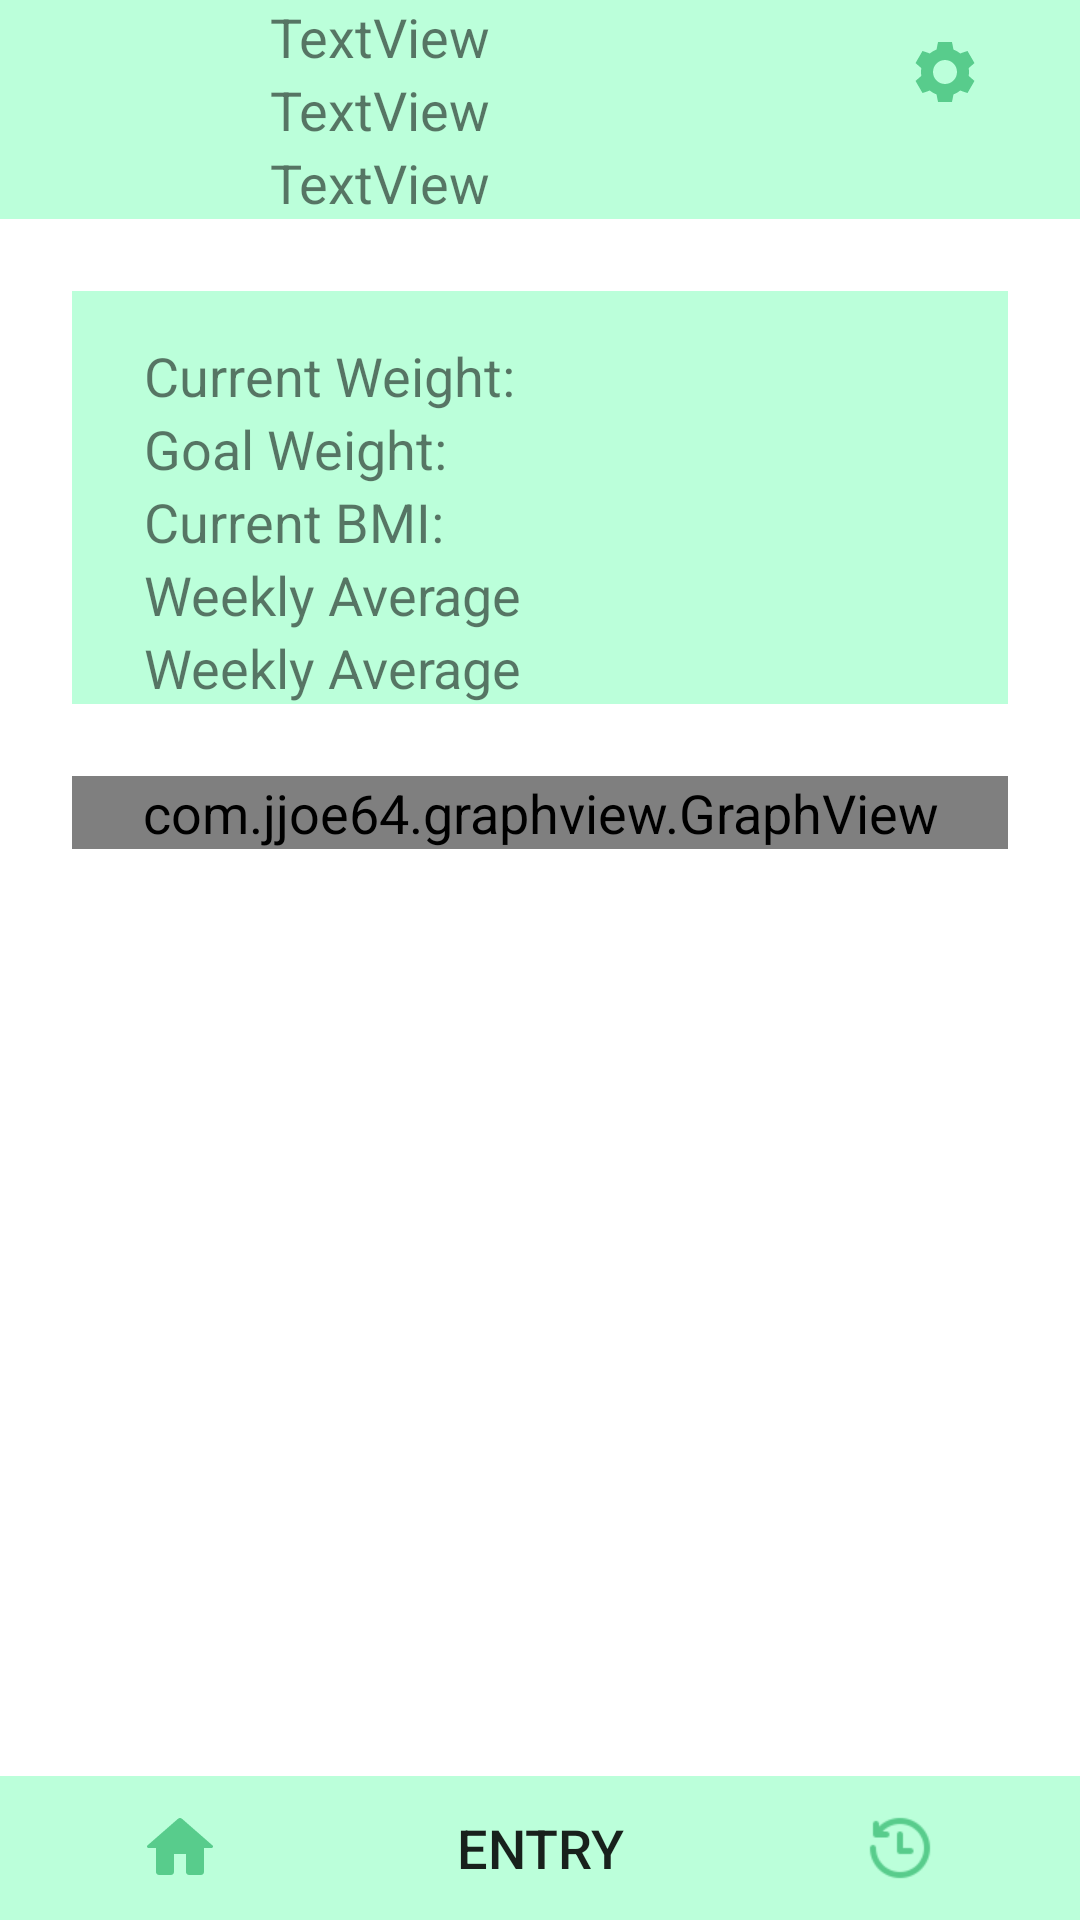

Named icons in this screenshot (1080 × 1920) and their bounding boxes, [x1=x1, y1=y1, x2=x2, y2=y2]:
home: [x1=147, y1=1818, x2=213, y2=1875]
settings: [x1=916, y1=42, x2=974, y2=102]
